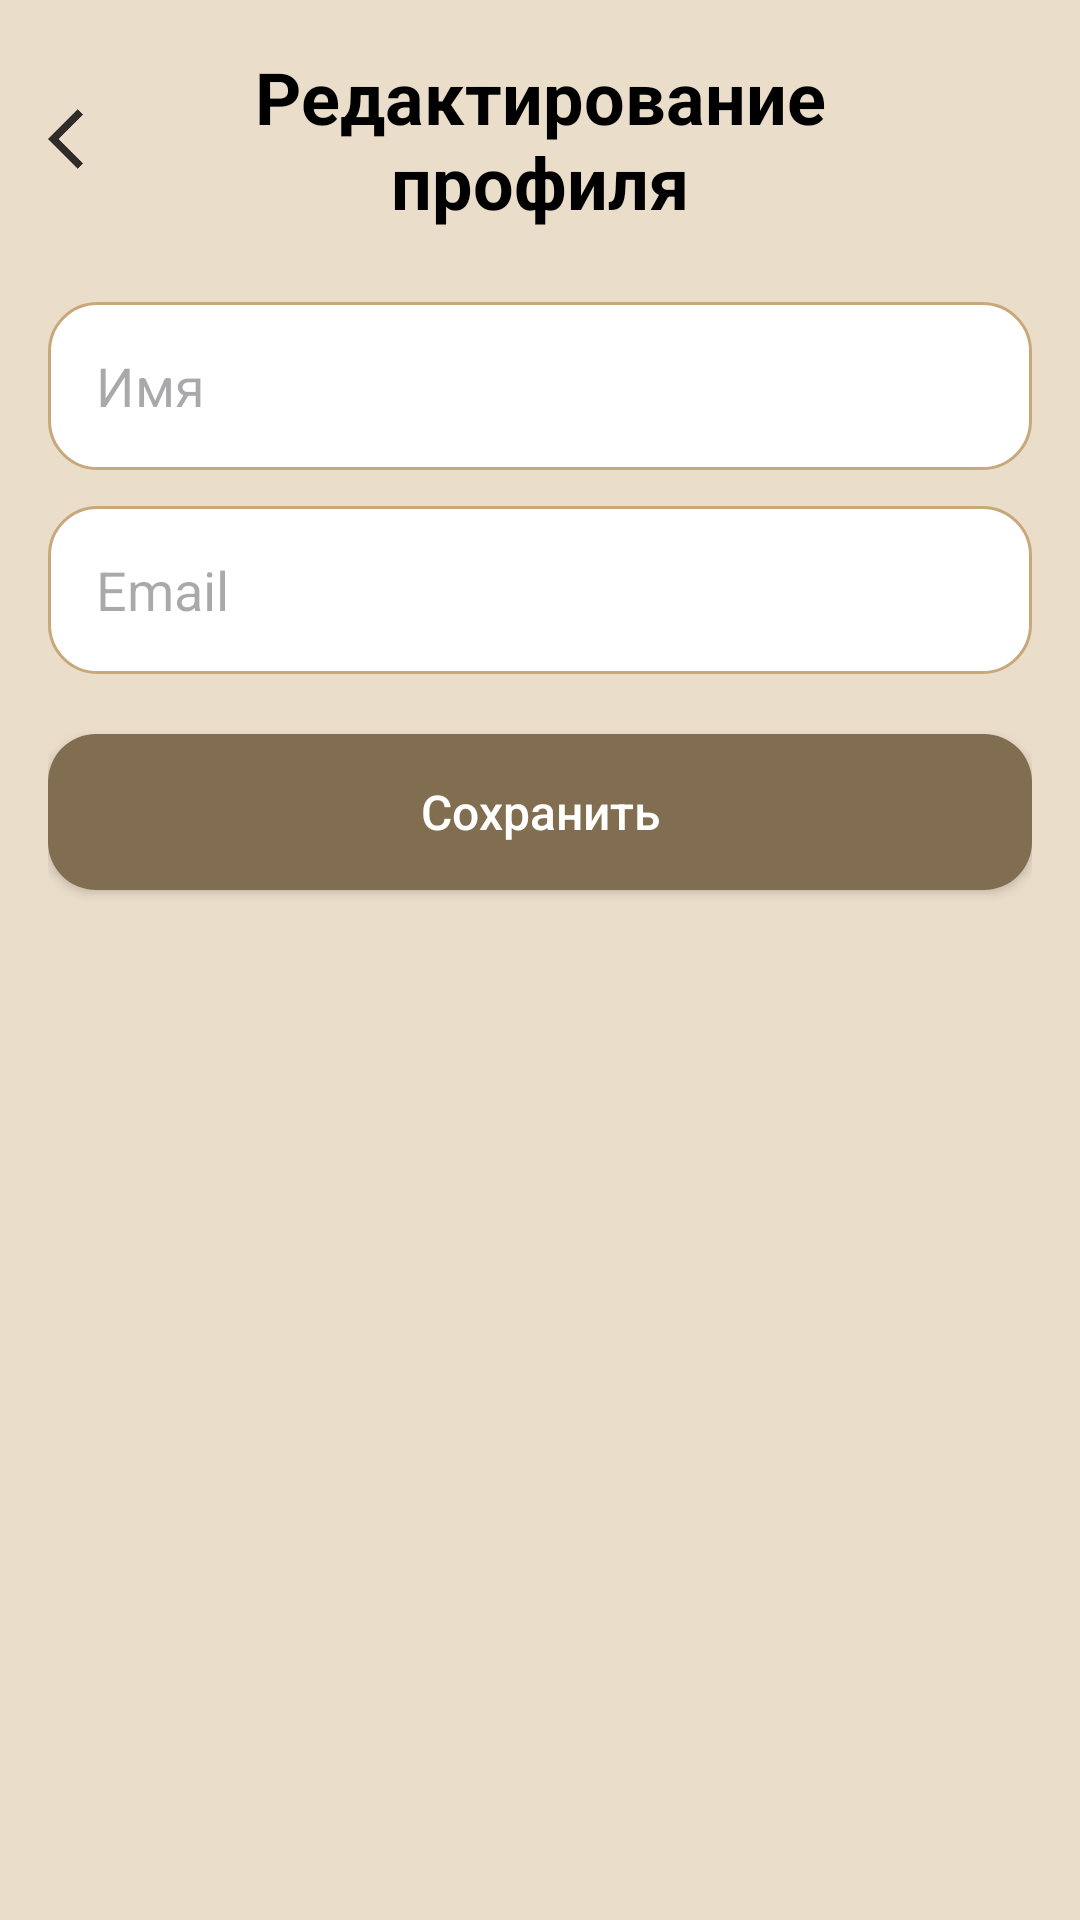

Icon click points for this 1080px×1920px phone screenshot, format (x=x, y=y):
Назад: (x=65, y=139)
